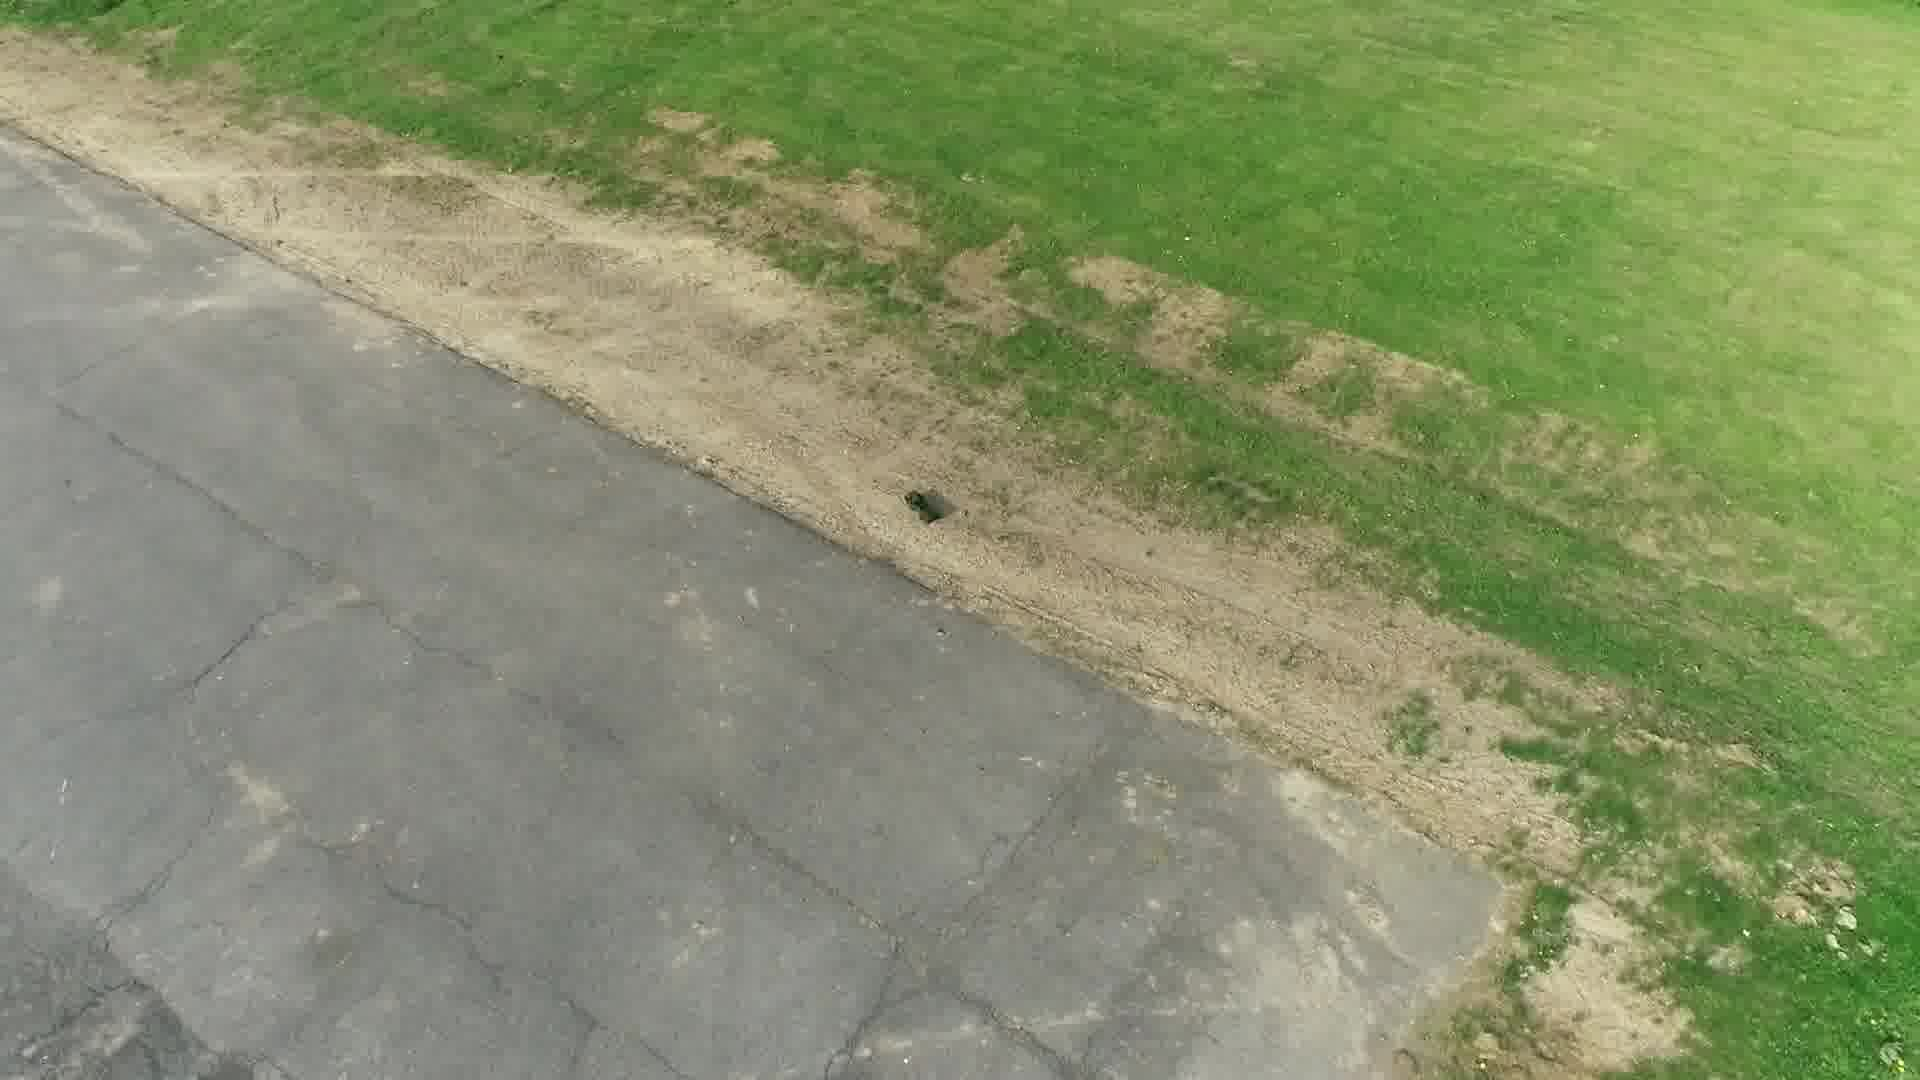transporter9: (901, 488, 942, 526)
